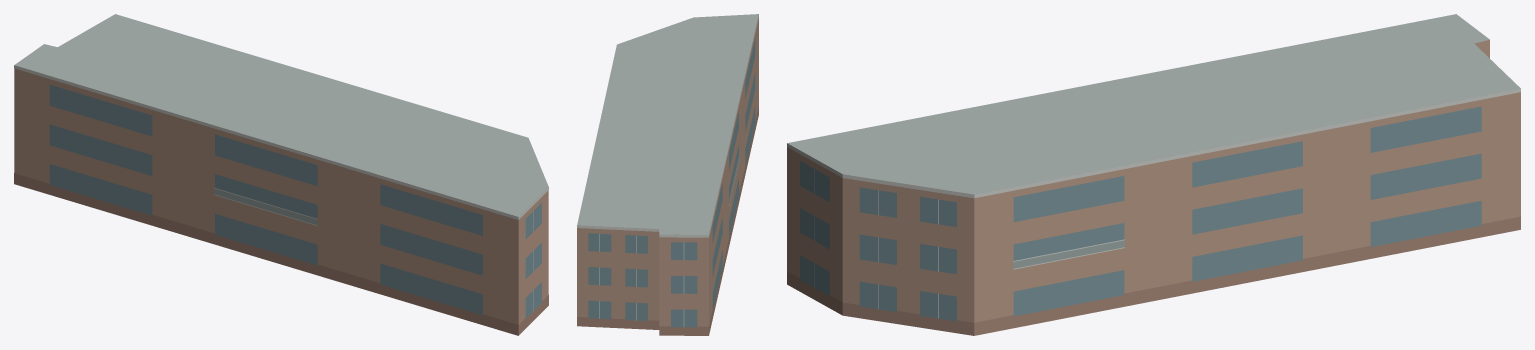
Rendered from survey-upis-32529756.glb.
3 renders of one model, left to right at view 1: azimuth 30°, elevation 25°; view 2: azimuth 150°, elevation 25°; view 3: azimuth 270°, elevation 25°, orthographic. The views are drawn at different scales.
Visible parts, largest first — view 1: survey-upis-32529756.tmp; view 2: survey-upis-32529756.tmp; view 3: survey-upis-32529756.tmp.
Boxes of the visible parts, bbox=[...] form: survey-upis-32529756.tmp: bbox=[14, 14, 548, 335]; survey-upis-32529756.tmp: bbox=[577, 14, 758, 335]; survey-upis-32529756.tmp: bbox=[787, 14, 1520, 335].
Size of the model in its own units: 25.07 by 9.15 by 43.05.
